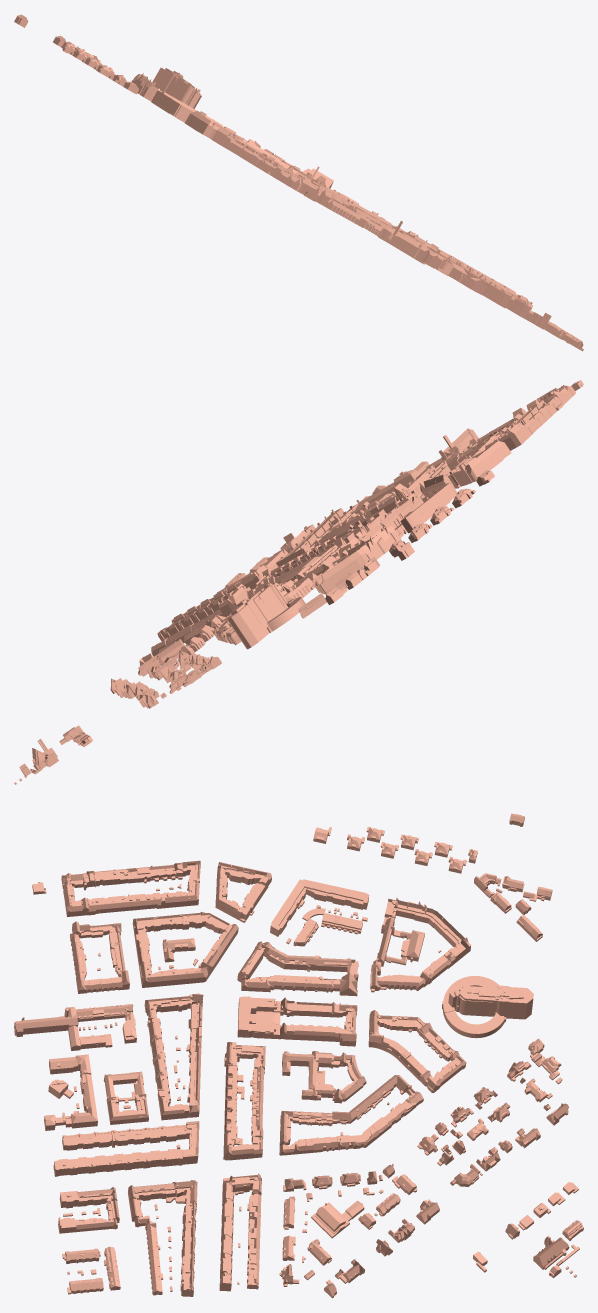
3 renders of one model, top to bottom at view 1: azimuth 30°, elevation 25°; view 2: azimuth 150°, elevation 25°; view 3: azimuth 270°, elevation 25°, orthographic. The views are drawn at different scales.
Bounding box in the file's own units: 1.74e+07 × 1.27e+07 × 2.17e+07.
